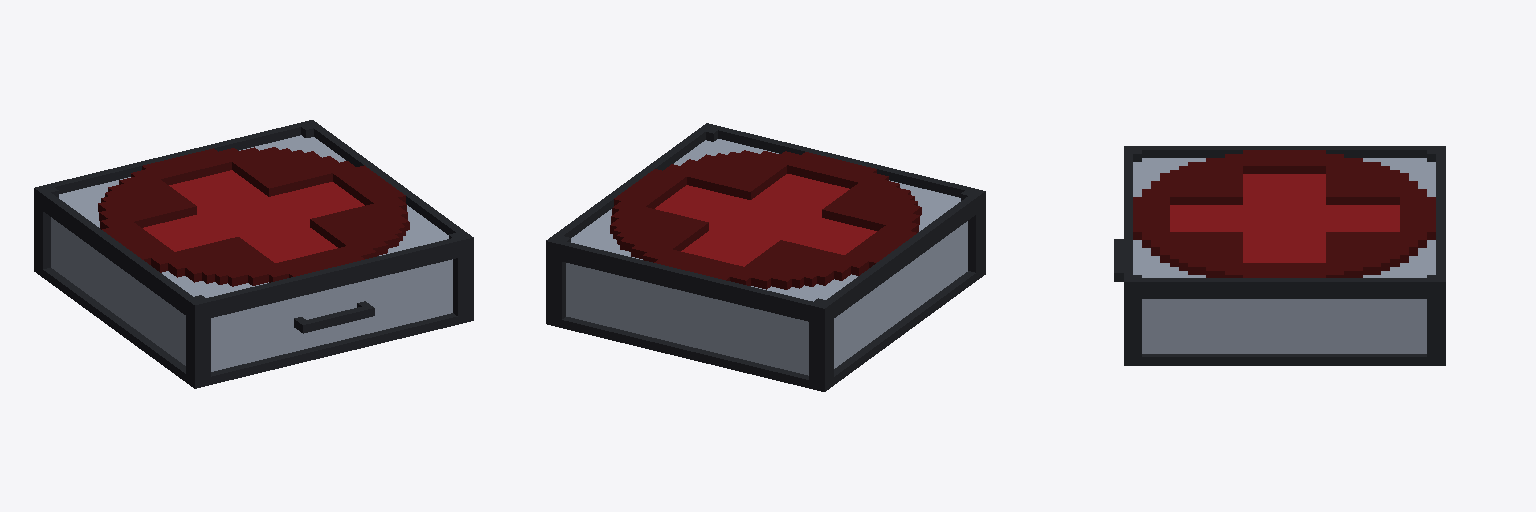
3 views of the same model, side by side, from view 1: azimuth 30°, elevation 25°; view 2: azimuth 150°, elevation 25°; view 3: azimuth 270°, elevation 25° (orthographic).
Visible parts, largest first — view 1: object 1; view 2: object 1; view 3: object 1.
Part boxes in pixels (x1,y1,x2,y2): object 1: (34,120,473,388); object 1: (546,123,985,391); object 1: (1114,146,1445,365).
Size of the model in its own units: 3.5 by 1 by 3.6.
1 materials, 1 textured.